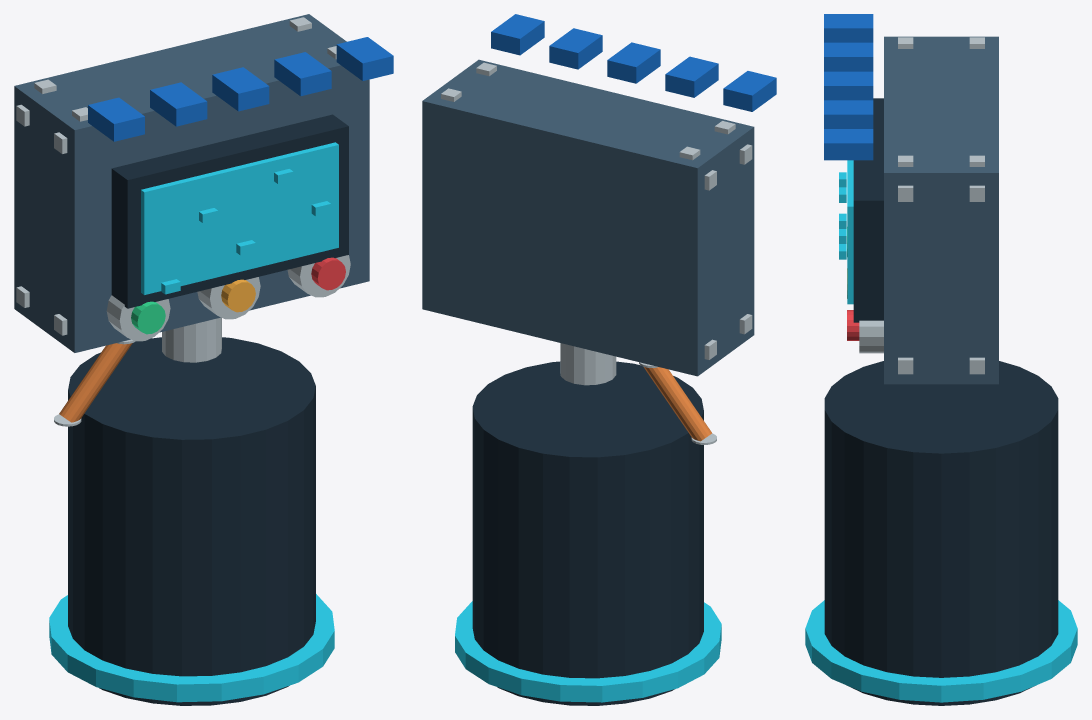
The model's file is 52_L75_WaferRegistrationCamera.fbx.
3 views of the same model, side by side, from view 1: azimuth 30°, elevation 25°; view 2: azimuth 150°, elevation 25°; view 3: azimuth 270°, elevation 25° (orthographic). The views are drawn at different scales.
Parts seen in each view (by area): view 1: WaferRegistrationCamera; view 2: WaferRegistrationCamera; view 3: WaferRegistrationCamera.
Boxes of the visible parts, left/top/right/bottom form: WaferRegistrationCamera: left=14, top=14, right=393, bottom=705; WaferRegistrationCamera: left=422, top=14, right=776, bottom=705; WaferRegistrationCamera: left=805, top=14, right=1077, bottom=705.
Bounding box in the file's own units: 54 × 103 × 44.
